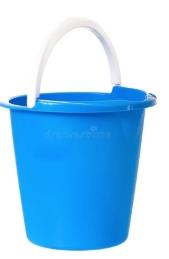SEAU: (0, 9, 169, 259)
